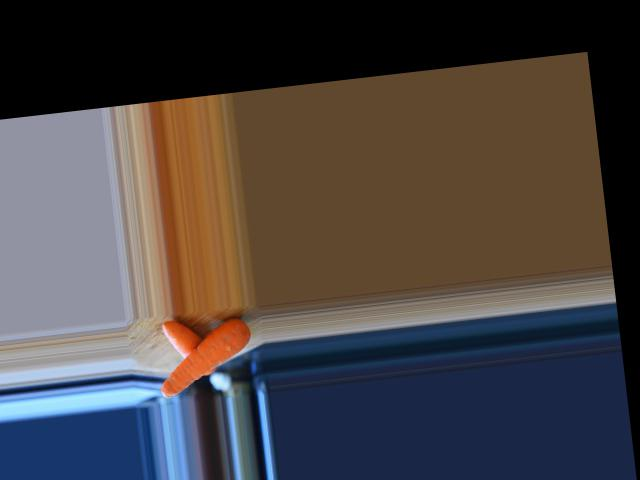carrot: (164, 316, 218, 379)
